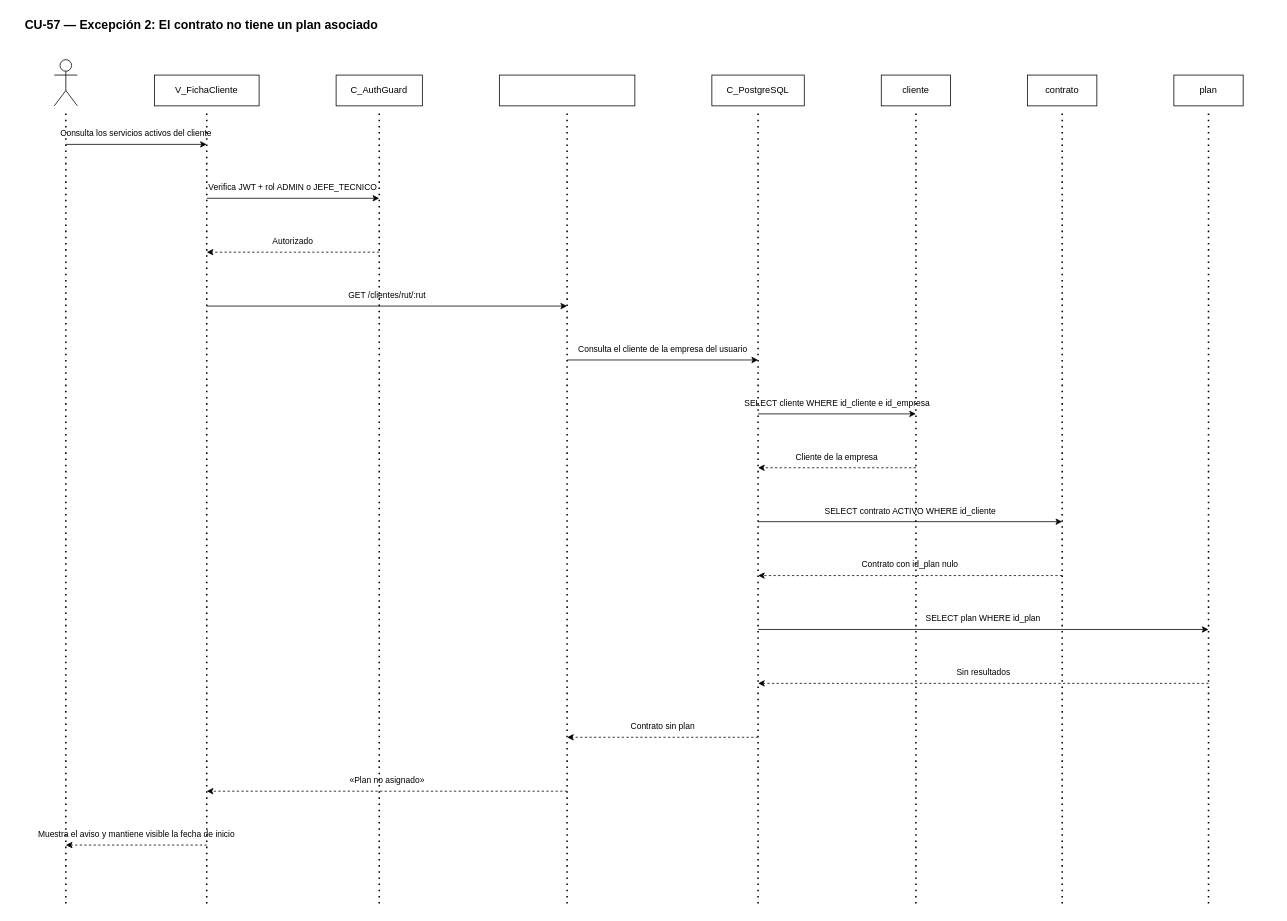
Some shapes in this 1287 by 921 pixel diagram are drawn without their labels. The box of each missing label's shape, as (x1, y1, x2, y2) in pixels:
C_ClienteController: (499, 74, 635, 106)
Jefe Técnico: (54, 59, 77, 106)
